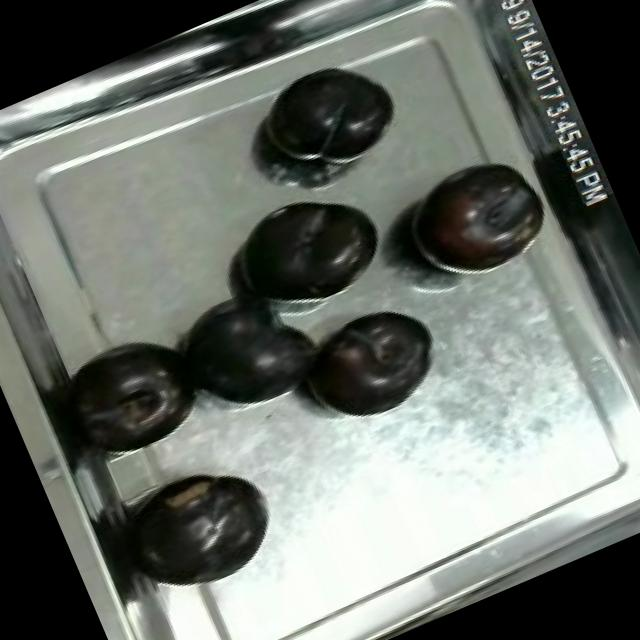Fruit: (210, 164, 402, 330), (158, 262, 341, 433), (109, 442, 292, 612), (242, 36, 420, 196), (386, 138, 562, 298), (280, 288, 457, 440), (54, 316, 213, 466)
